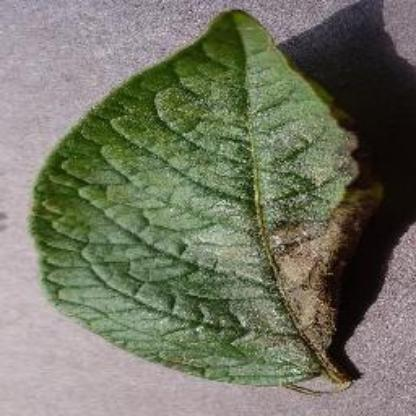Late-Blight: (28, 5, 378, 389)
